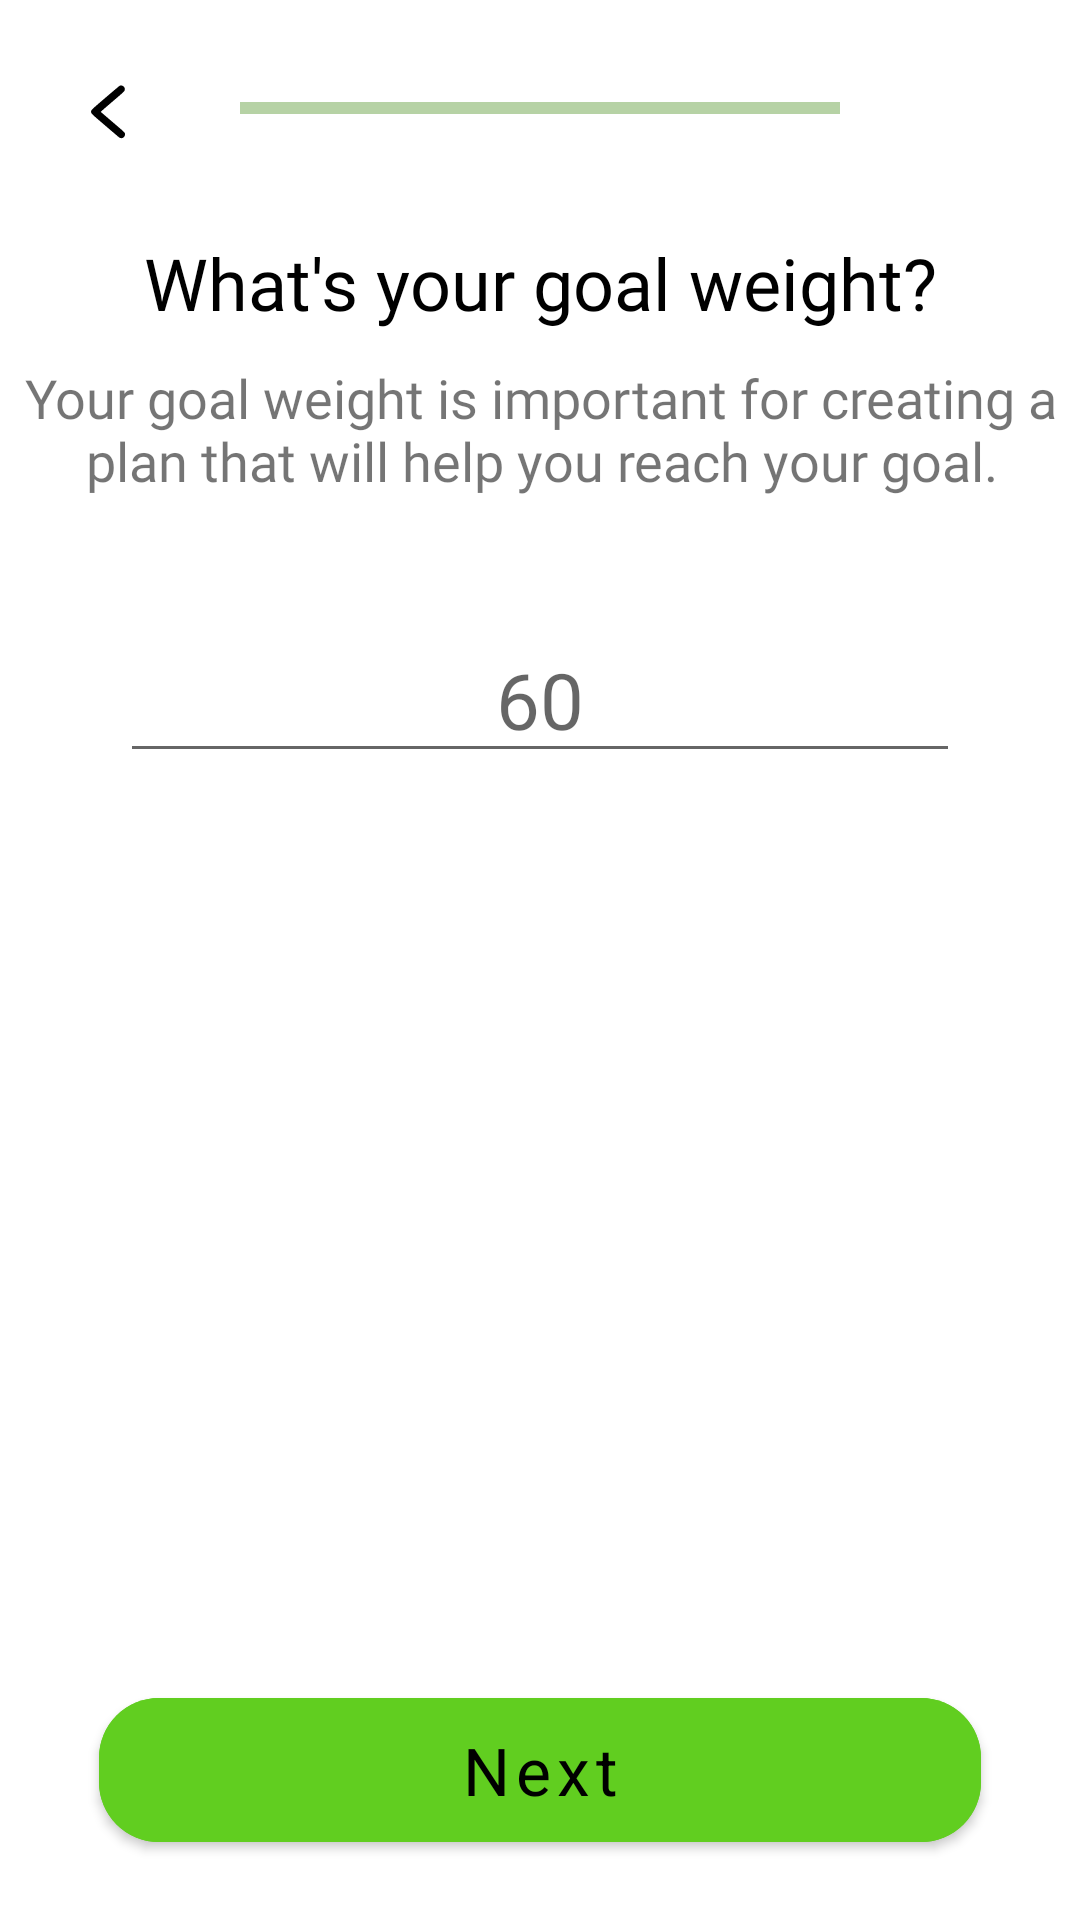

Icon bounding boxes for this 1080 x 1920 phone screenshot, format (x1, y1, x2, y2):
arrow back: (91, 85, 125, 139)
